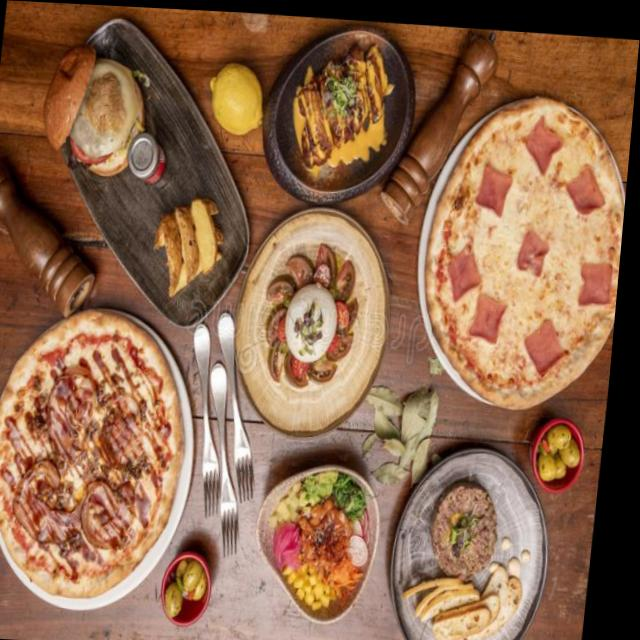burger: (38, 39, 149, 181)
pizza: (415, 85, 635, 409), (0, 301, 201, 603)
